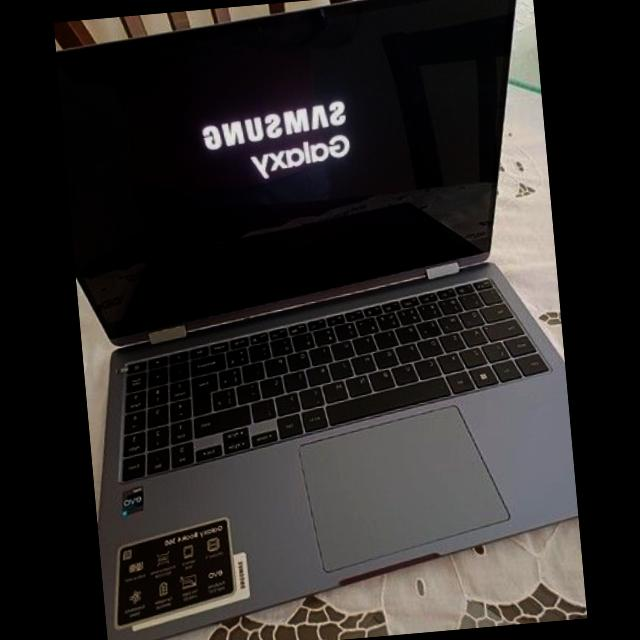laptop: (53, 0, 581, 638)
